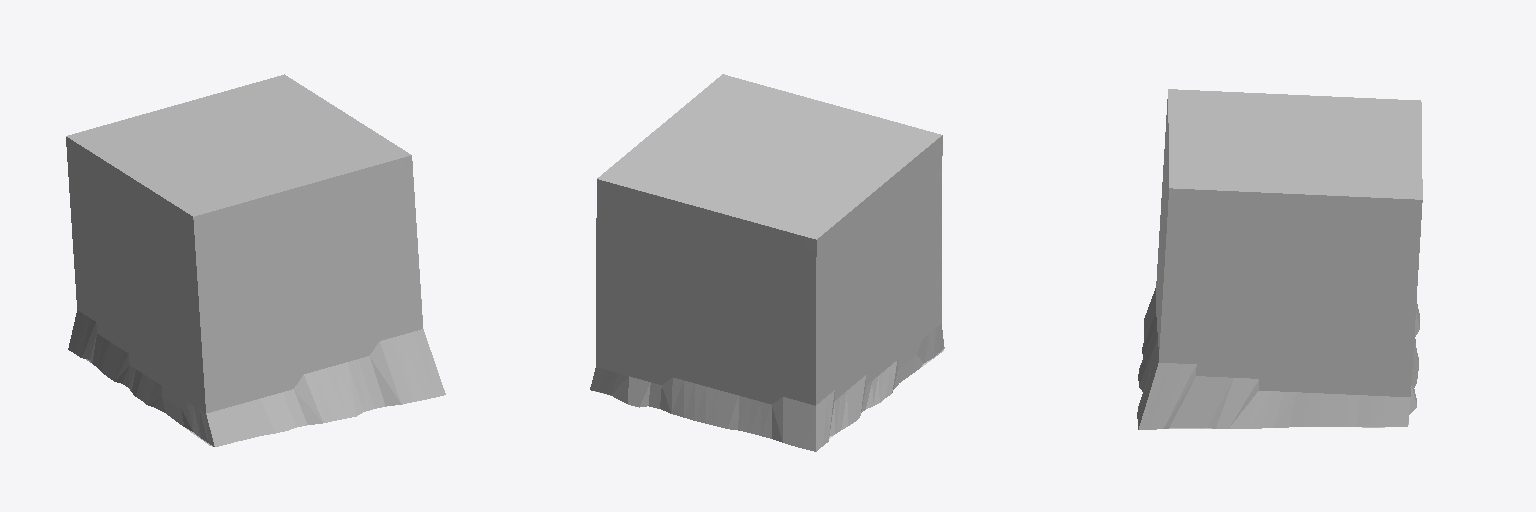
The model's file is mod0016.obj.
The picture shows the model from 3 angles: view 1: azimuth 30°, elevation 25°; view 2: azimuth 150°, elevation 25°; view 3: azimuth 270°, elevation 25°; orthographic projection.
Visible parts, largest first — view 1: Box001; view 2: Box001; view 3: Box001.
Part boxes in pixels (x1,y1,x2,y2): Box001: (66,74,445,446); Box001: (590,74,944,451); Box001: (1137,89,1422,429).
Bounding box in the file's own units: 0.5834 × 0.5453 × 0.6035.